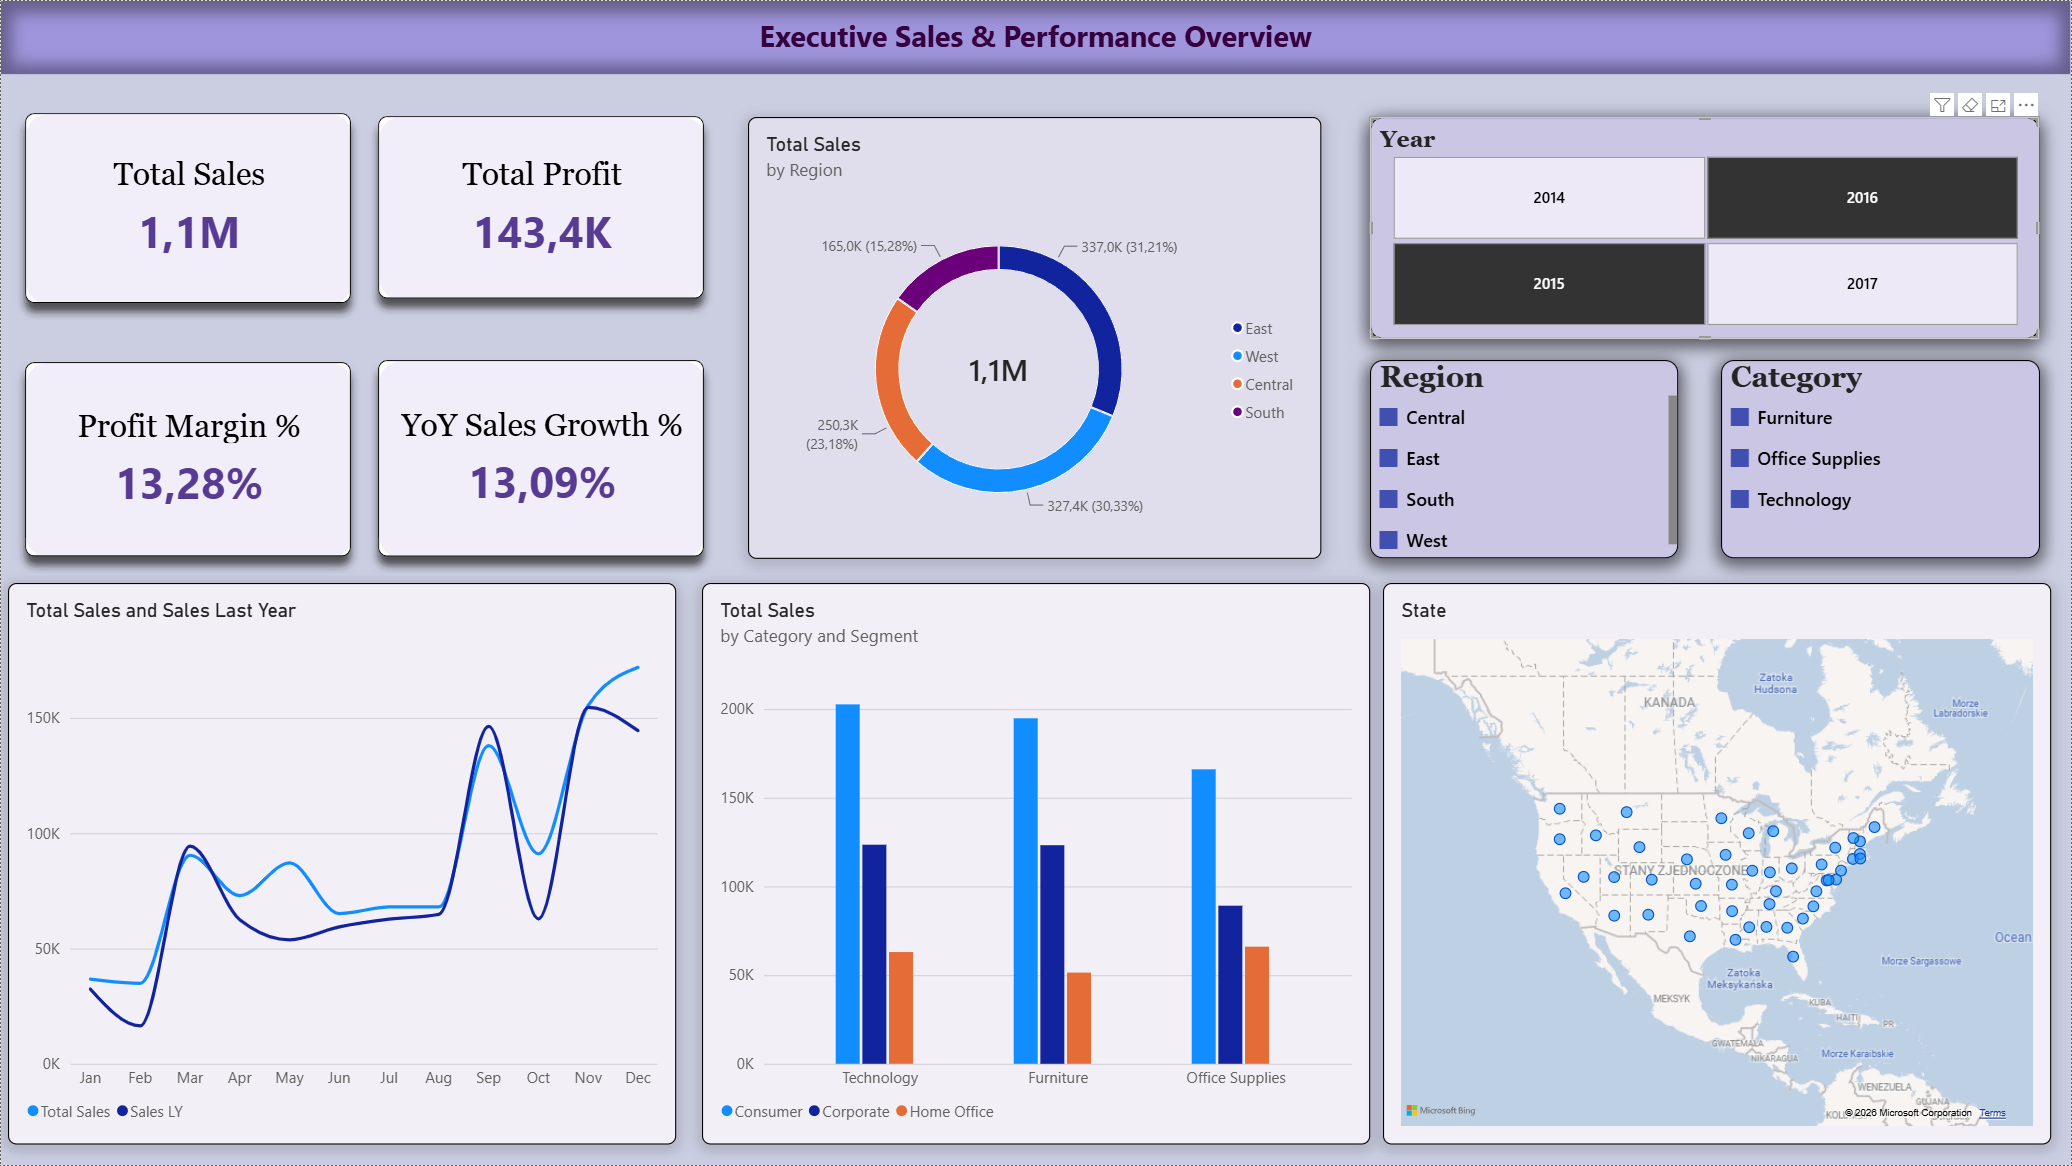

The page's visual inventory and layout, read from the dashboard file:
{"tool":"powerbi","page":{"name":"Dashboard Project","canvas":[1920,1080],"ordinal":0},"visuals":[{"type":"textbox","box":[0,0,1920,67.8],"z":0},{"type":"cardVisual","fields":{"Data":["_Measures.Total Sales"]},"box":[6.7,87.8,334.4,208.9],"z":1000},{"type":"cardVisual","fields":{"Data":["_Measures.Profit Margin %"]},"box":[6.7,318.9,334.4,212.2],"z":2000},{"type":"cardVisual","fields":{"Data":["_Measures.Total Profil"]},"box":[334.4,91.1,334.4,201.1],"z":3000},{"type":"lineChart","title":"Total Sales and Sales Last Year","fields":{"Category":["Calendar.Month"],"Y":["_Measures.Total Sales","_Measures.Sales LY"]},"box":[6.7,540,620,521.1],"z":4000},{"type":"slicer","fields":{"Values":["Superstore.Category"]},"box":[1595.6,333.3,295.6,184.4],"z":5000},{"type":"clusteredColumnChart","fields":{"Category":["Superstore.Category"],"Series":["Superstore.Segment"],"Y":["_Measures.Total Sales"]},"box":[650,540,620,521.1],"z":6000},{"type":"map","fields":{"Category":["Superstore.State"]},"box":[1282.2,540,620,521.1],"z":7000},{"type":"slicer","fields":{"Values":["Calendar.Year"]},"box":[1270,107.8,621.1,205.6],"z":8000},{"type":"slicer","fields":{"Values":["Superstore.Region"]},"box":[1270,333.3,285.6,184.4],"z":9000},{"type":"cardVisual","fields":{"Data":["_Measures.YoY Sales Growth %"]},"box":[334.4,317.8,334.4,214.4],"z":10000},{"type":"donutChart","fields":{"Category":["Superstore.Region"],"Y":["_Measures.Total Sales"]},"box":[693.3,107.8,532.2,410],"z":11000}]}

Visuals, with their boxes in screenshot pixels (x1, y1, x2, y2), scaled from the page's 1920x1080 canvas onto the 2072x1166 screenshot:
textbox: x1=0 y1=0 x2=2071 y2=73
cardVisual - _Measures.Total Sales: x1=7 y1=95 x2=368 y2=320
cardVisual - _Measures.Profit Margin %: x1=7 y1=344 x2=368 y2=573
cardVisual - _Measures.Total Profil: x1=361 y1=98 x2=722 y2=315
"Total Sales and Sales Last Year" lineChart: x1=7 y1=583 x2=676 y2=1146
slicer - Superstore.Category: x1=1722 y1=360 x2=2041 y2=559
clusteredColumnChart - Superstore.Category x Superstore.Segment: x1=701 y1=583 x2=1371 y2=1146
map - Superstore.State: x1=1384 y1=583 x2=2053 y2=1146
slicer - Calendar.Year: x1=1371 y1=116 x2=2041 y2=338
slicer - Superstore.Region: x1=1371 y1=360 x2=1679 y2=559
cardVisual - _Measures.YoY Sales Growth %: x1=361 y1=343 x2=722 y2=575
donutChart - Superstore.Region x _Measures.Total Sales: x1=748 y1=116 x2=1323 y2=559
